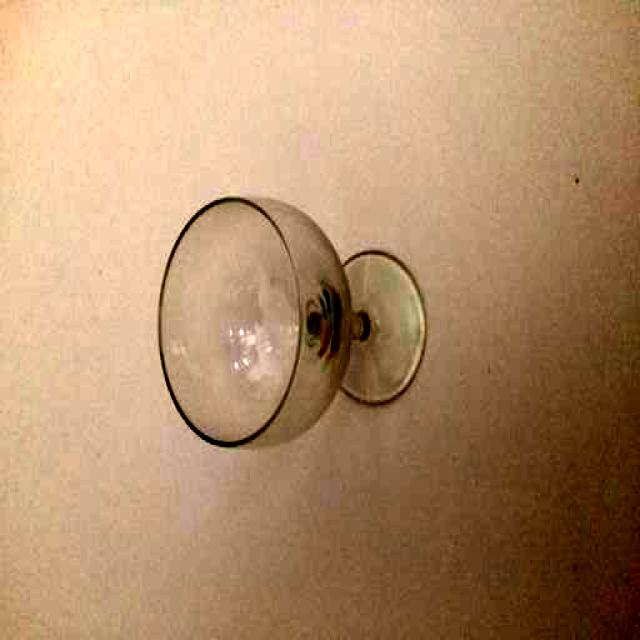Glass: (159, 197, 426, 446)
